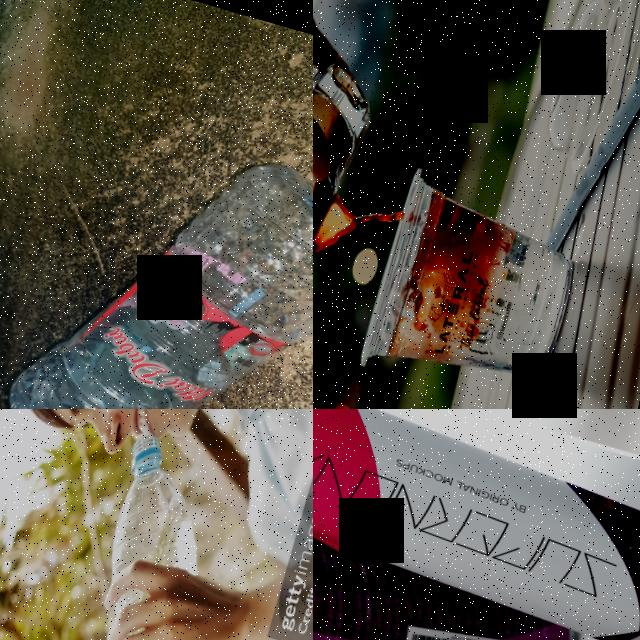bottle: (0, 88, 313, 409), (21, 427, 313, 640)
can: (313, 409, 640, 640), (313, 469, 607, 640), (313, 409, 640, 463)
cup: (353, 168, 591, 409)
